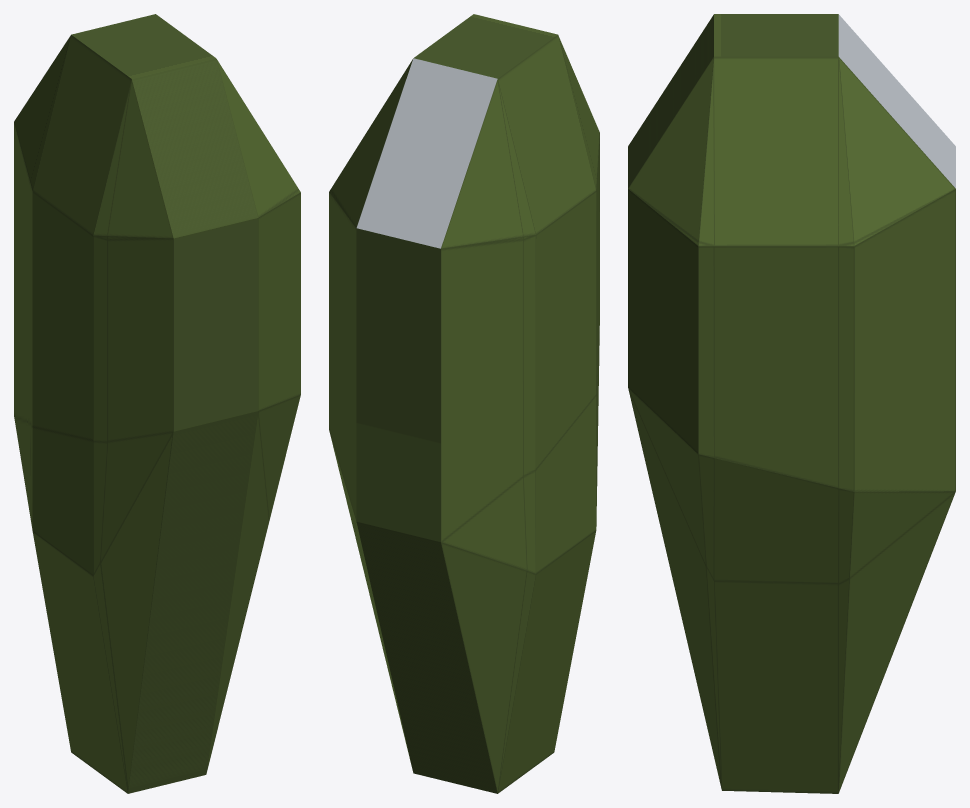
File: RLeagAbove.fbx
The picture shows the model from 3 angles, left to right: view 1: azimuth 30°, elevation 25°; view 2: azimuth 150°, elevation 25°; view 3: azimuth 270°, elevation 25°; orthographic projection. The views are drawn at different scales.
Visible parts, largest first — view 1: Shape_IndexedFaceSet.015; view 2: Shape_IndexedFaceSet.015, Shape_IndexedFaceSet.014; view 3: Shape_IndexedFaceSet.015, Shape_IndexedFaceSet.014.
Part boxes in pixels (x1,y1,x2,y2): Shape_IndexedFaceSet.015: (14,14,300,793); Shape_IndexedFaceSet.015: (329,14,599,793); Shape_IndexedFaceSet.014: (356,58,497,248); Shape_IndexedFaceSet.015: (628,14,955,793); Shape_IndexedFaceSet.014: (838,14,955,188).
Size of the model in its own units: 0.1272 by 0.4361 by 0.1757.
